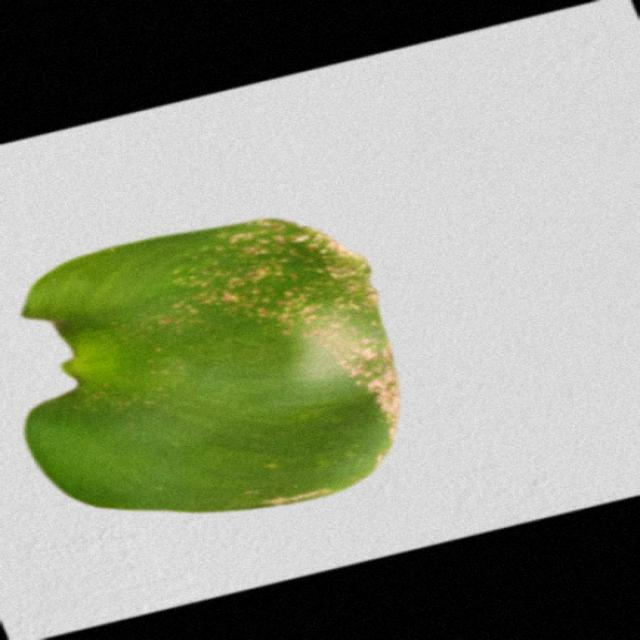daun berpenyakit bercak: (24, 221, 398, 512)
